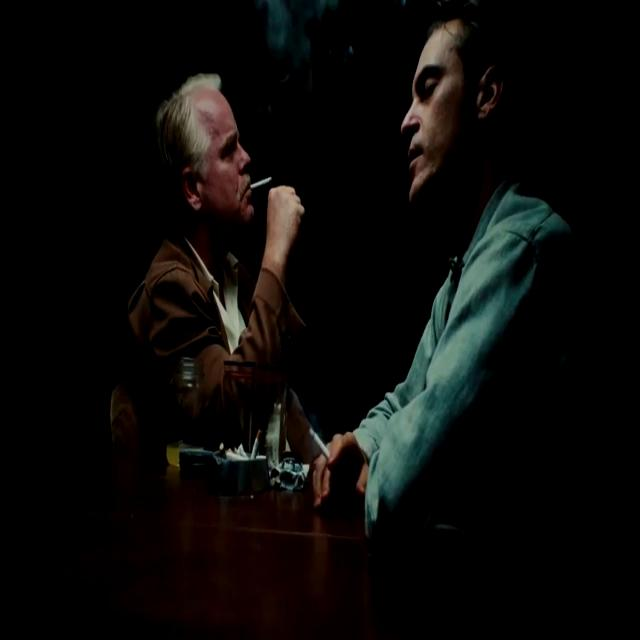Smooking: (250, 164, 272, 197)
